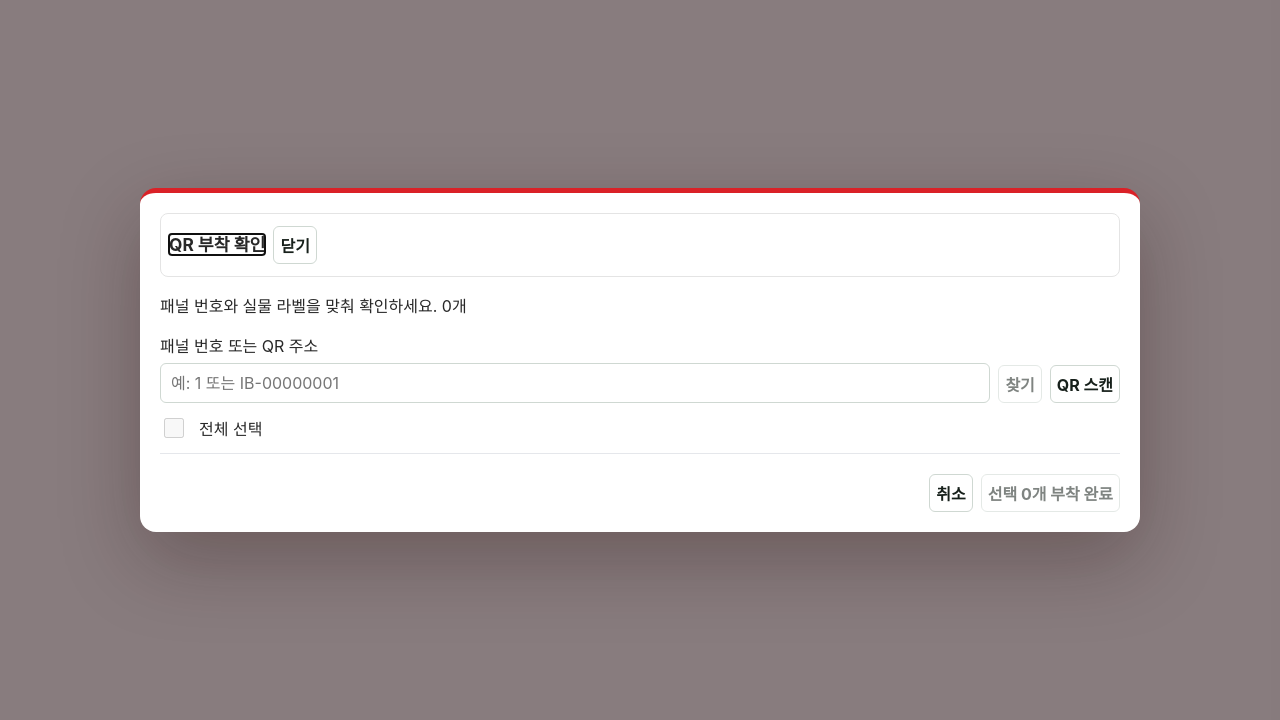
Test: number lookup selects result without mutating confirmation
The image size is (1280, 720).
Type "0001" into the field.
click(575, 383); type("0001")  # box [160,363,990,403]
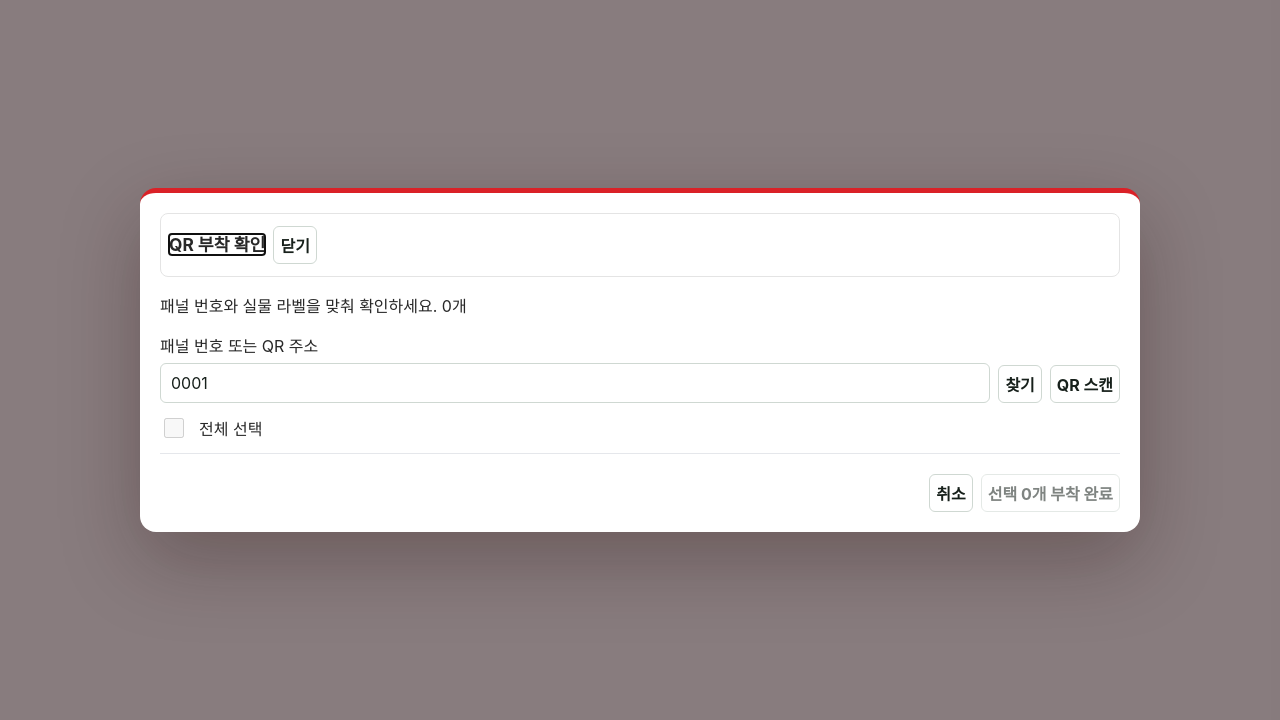
Click the button "찾기".
click(1020, 384)  # box [998,365,1042,403]
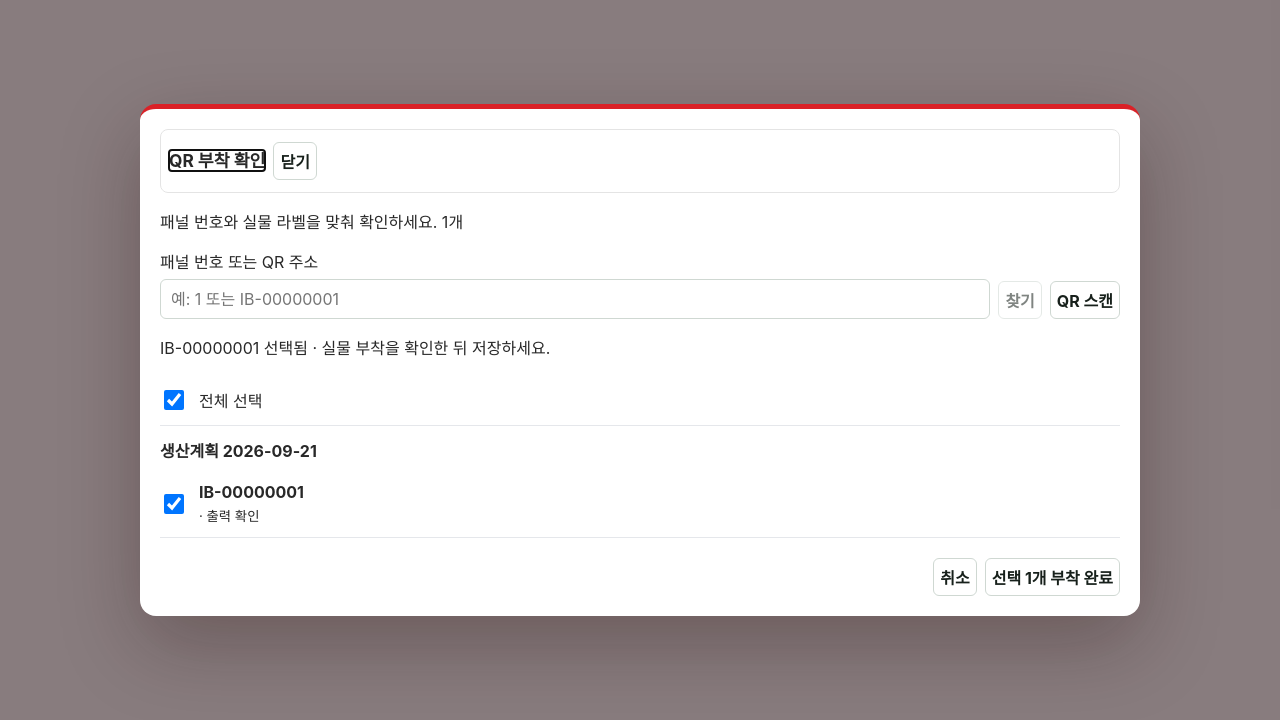
Check: the text "IB-00000001" is shown, box [199,482,304,502]
